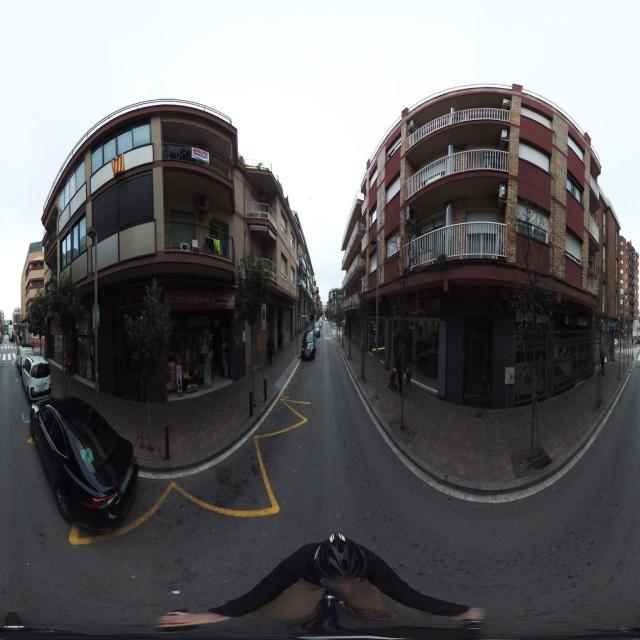forb_stopping: (263, 308, 266, 321)
